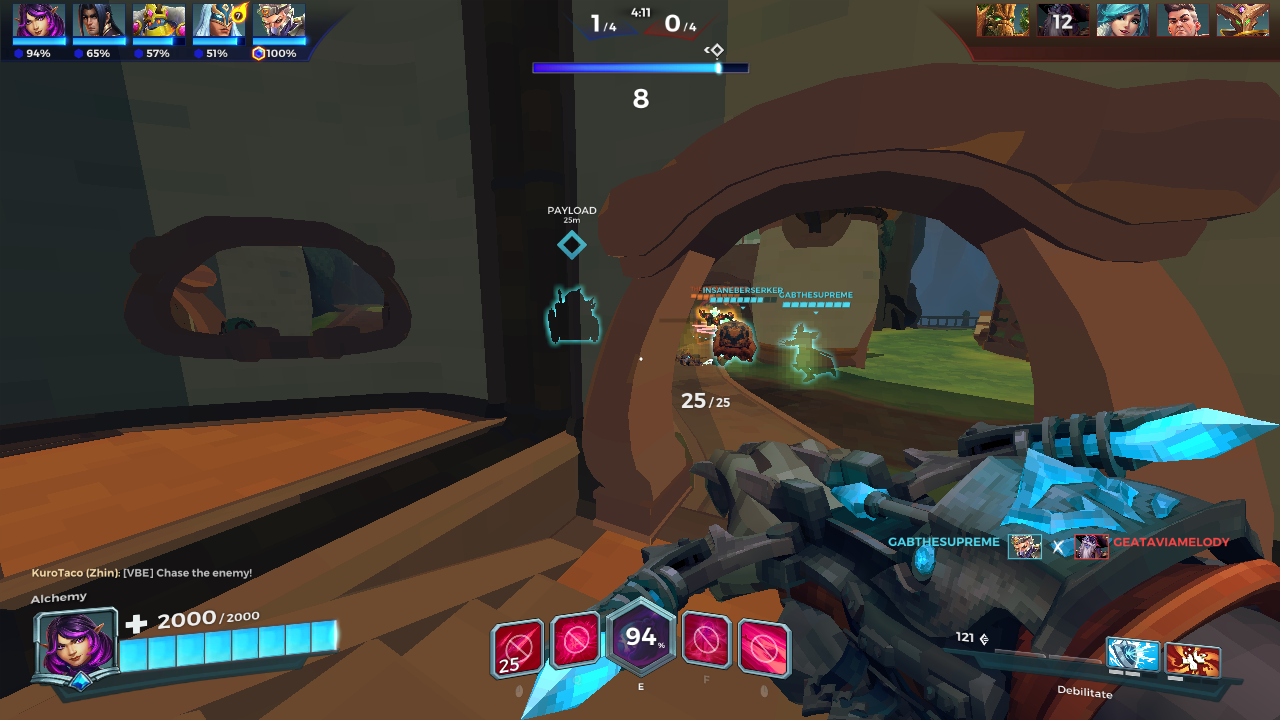model: (699, 308, 736, 329)
